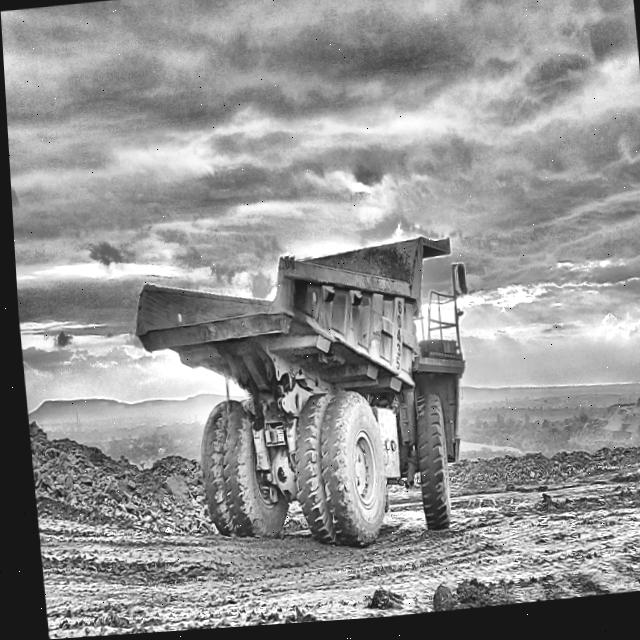dump_truck: (133, 241, 462, 552)
